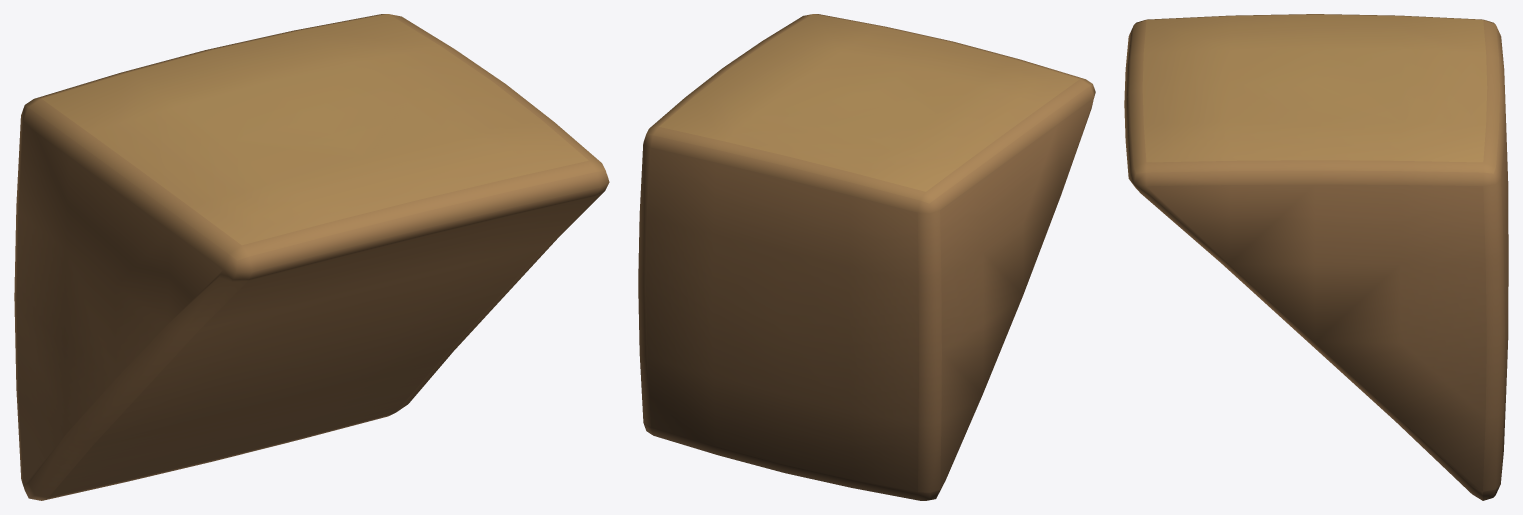
File: Sandstone_Plain_SlopeUnder_Light.fbx
3 renders of one model, left to right at view 1: azimuth 30°, elevation 25°; view 2: azimuth 150°, elevation 25°; view 3: azimuth 270°, elevation 25°, orthographic. The views are drawn at different scales.
Parts seen in each view (by area): view 1: Sandstone_Plain_SlopeUnder_Light_LOD0; view 2: Sandstone_Plain_SlopeUnder_Light_LOD0; view 3: Sandstone_Plain_SlopeUnder_Light_LOD0.
Part boxes in pixels (box(x1,y1,x2,y2)): Sandstone_Plain_SlopeUnder_Light_LOD0: box(14, 14, 609, 500); Sandstone_Plain_SlopeUnder_Light_LOD0: box(638, 14, 1095, 500); Sandstone_Plain_SlopeUnder_Light_LOD0: box(1124, 14, 1508, 500).
Size of what is drawn, in the model's own units: 1.09 by 1.08 by 1.08.
